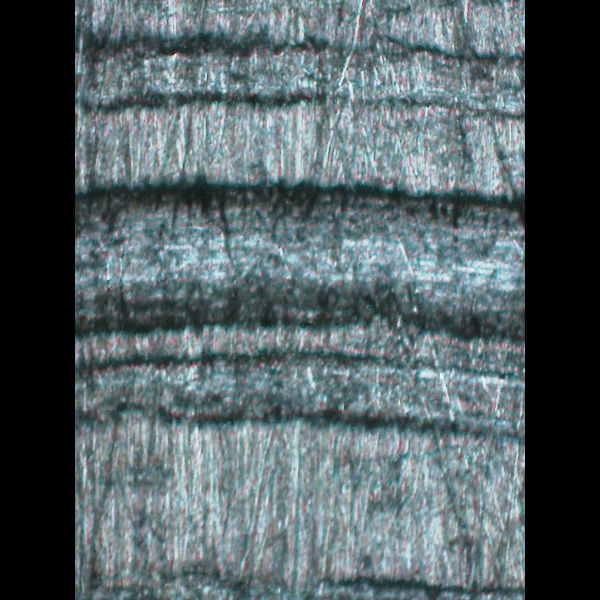d: (76, 175, 524, 439), (77, 10, 524, 126)
